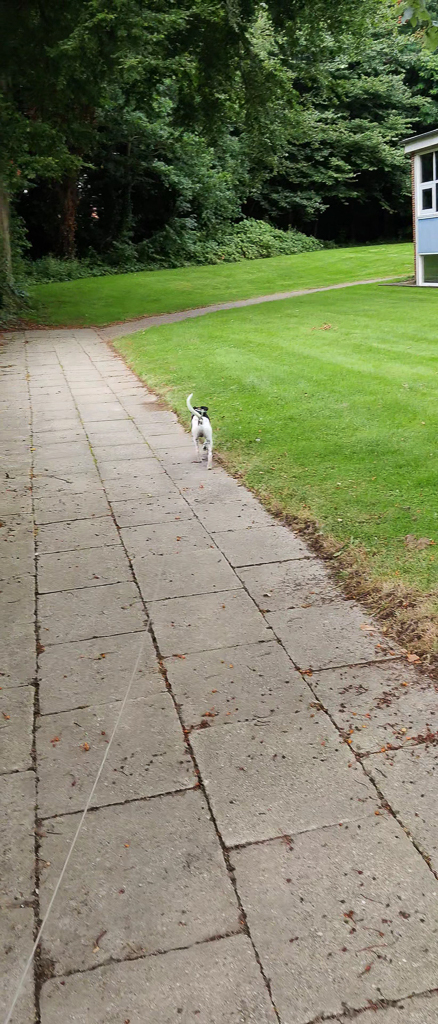Dog: (178, 389, 223, 471)
